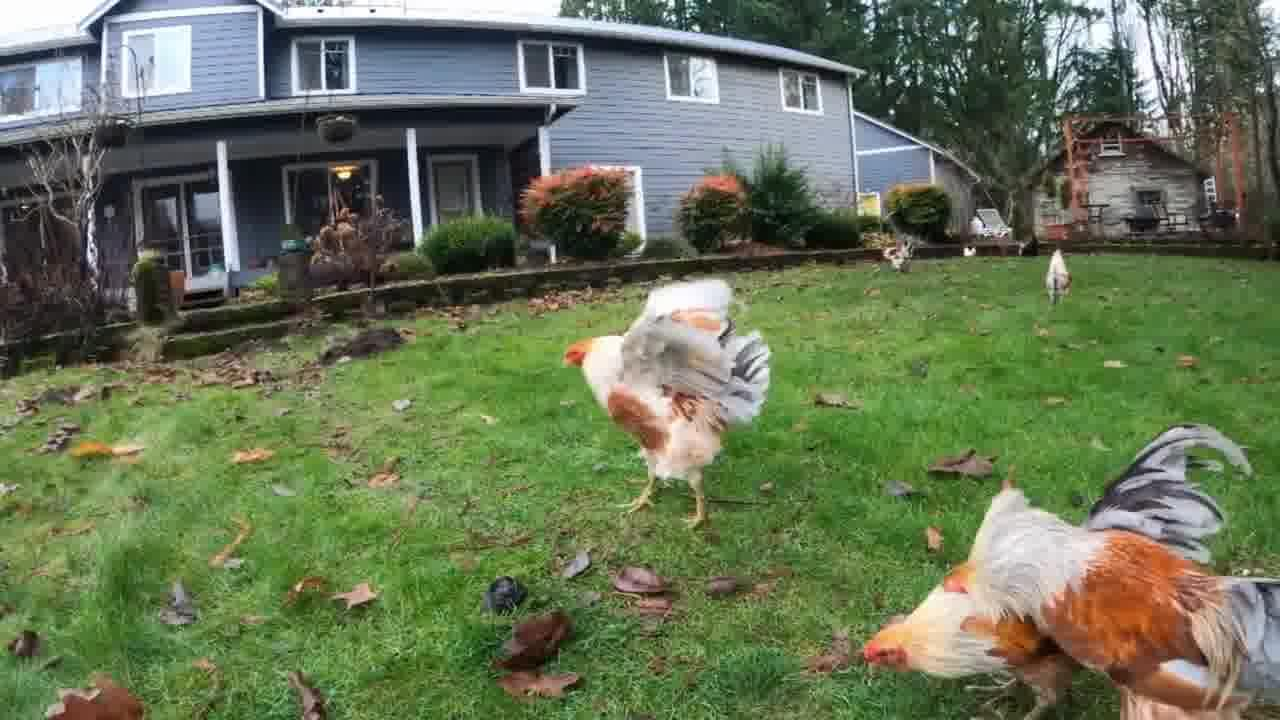Normal: (842, 418, 1280, 720), (564, 252, 796, 536)
